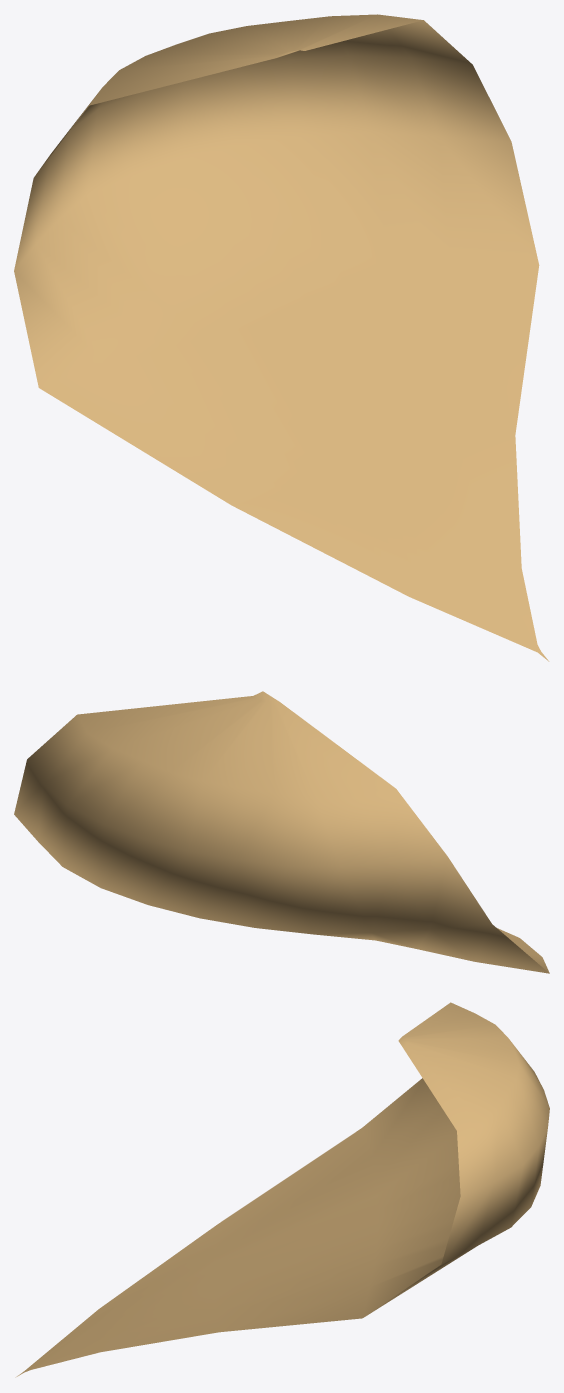
Rendered from abdomen_6_lower.obj.
The picture shows the model from 3 angles, top to bottom: view 1: azimuth 30°, elevation 25°; view 2: azimuth 150°, elevation 25°; view 3: azimuth 270°, elevation 25°; orthographic projection. The views are drawn at different scales.
Bounding box in the file's own units: 0.0515 × 0.0406 × 0.0587.
